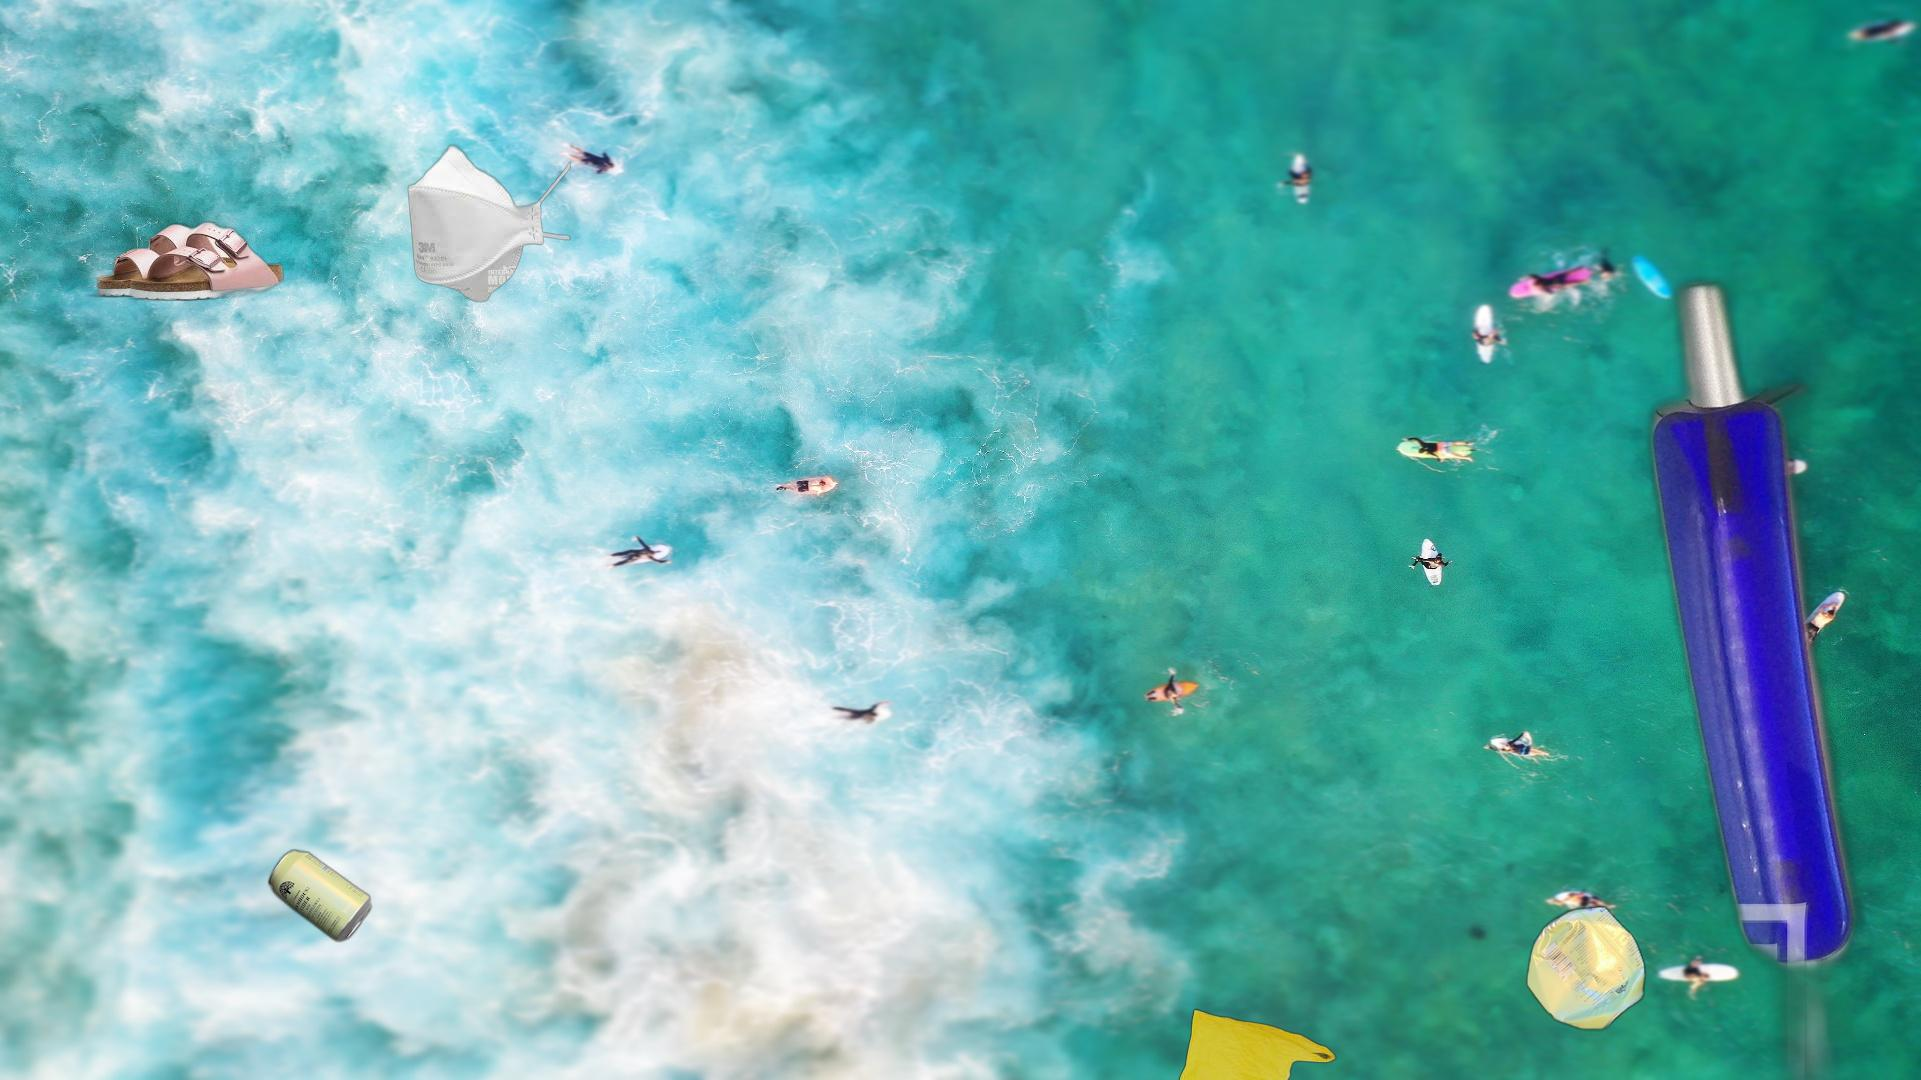metal-cans: (1523, 899, 1651, 1036), (263, 843, 376, 948)
penholder: (1606, 117, 1921, 1080)
plastic-bag: (1174, 1007, 1339, 1080)
shoes: (84, 219, 286, 305)
trash: (405, 141, 575, 305)
